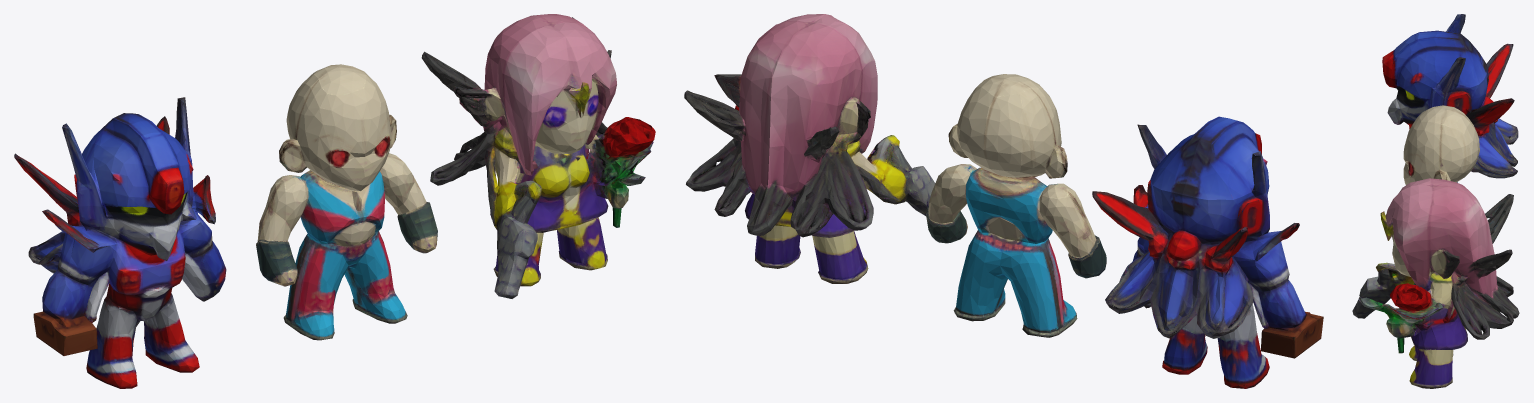
Rendered from chibis.glb.
The picture shows the model from 3 angles, left to right: view 1: azimuth 30°, elevation 25°; view 2: azimuth 150°, elevation 25°; view 3: azimuth 270°, elevation 25°; orthographic projection. The views are drawn at different scales.
Visible parts, largest first — view 1: world; view 2: world; view 3: world.
Part boxes in pixels (left/top/right/bottom): world: left=14, top=14, right=655, bottom=388; world: left=684, top=14, right=1323, bottom=388; world: left=1352, top=14, right=1519, bottom=388.
Size of the model in its own units: 0.9987 by 0.3979 by 0.3211.
1 material, 1 textured.
